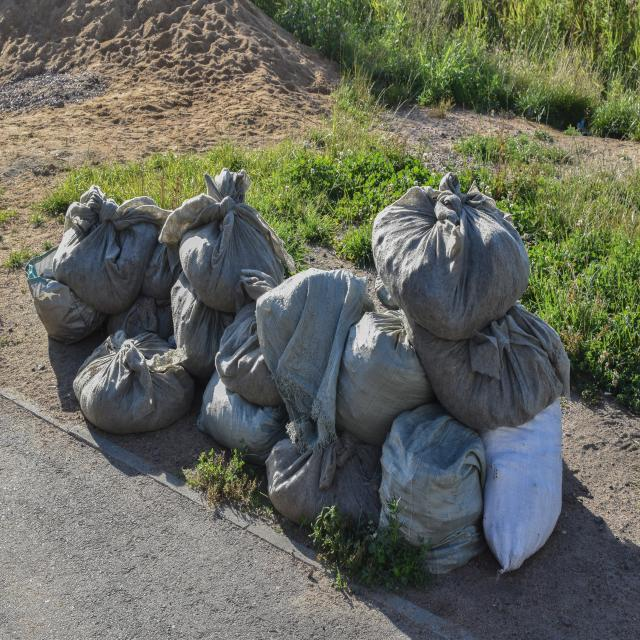entulho: (368, 177, 536, 355), (401, 302, 565, 444), (16, 208, 170, 350), (155, 178, 299, 318), (374, 398, 487, 562), (477, 398, 566, 573), (190, 306, 290, 458), (337, 306, 438, 454), (71, 332, 203, 437), (266, 419, 381, 536), (65, 185, 168, 242), (371, 197, 417, 291)
